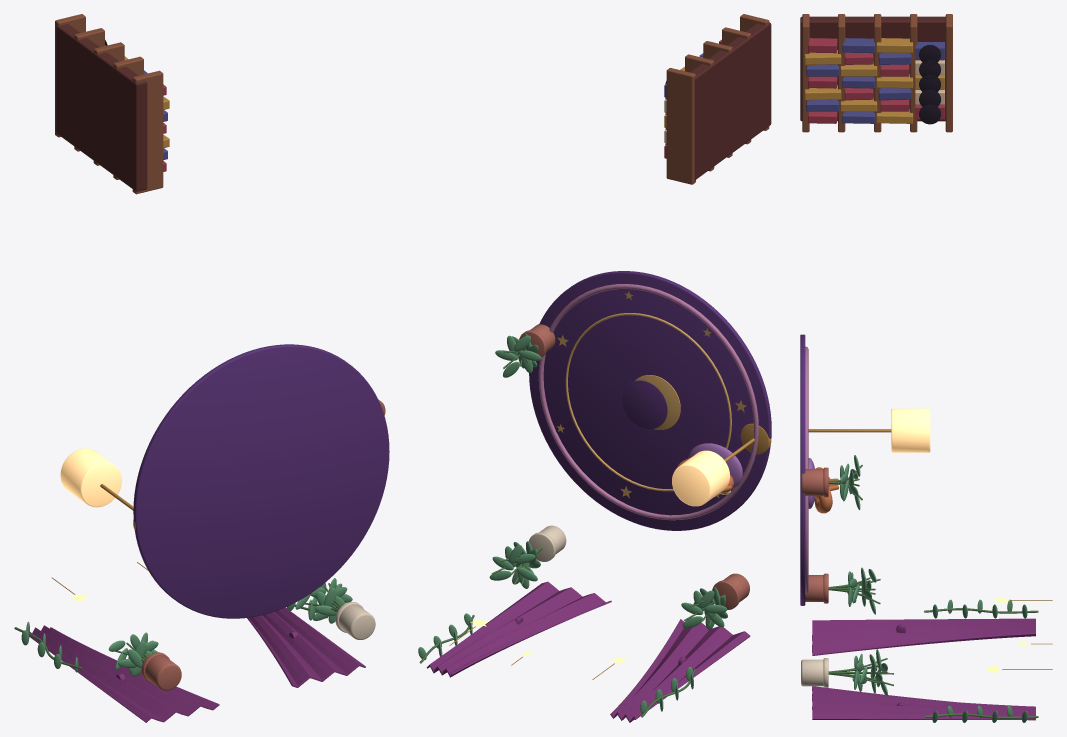
The model's file is drum-corner.glb.
3 renders of one model, left to right at view 1: azimuth 30°, elevation 25°; view 2: azimuth 150°, elevation 25°; view 3: azimuth 270°, elevation 25°, orthographic. The views are drawn at different scales.
Visible parts, largest first — view 1: Batched_Rug_Deep_Purple, Music_Shelf_Back, Batched_Plum_Curtain_Velvet, Batched_Walnut_Wood, Batched_Plant_Leaves, Lamp_Shade, Batched_Warm_Ceramic, Batched_Cream_Ceramic; view 2: Batched_Rug_Deep_Purple, Batched_Plum_Curtain_Velvet, Music_Shelf_Back, Batched_Plant_Leaves, Batched_Walnut_Wood, Rug_Outer_Border, Batched_Rug_Muted_Gold, Lamp_Shade, Batched_Warm_Ceramic, Batched_Cream_Ceramic, Batched_Plant_Stems, Batched_Aged_Brass (+1 smaller); view 3: Batched_Plum_Curtain_Velvet, Batched_Walnut_Wood, Batched_Book_Ochre, Music_Shelf_Back, Batched_Book_Indigo, Batched_Plant_Leaves, Batched_Book_Burgundy, Lamp_Shade, Batched_Vinyl_Black, Batched_Rug_Deep_Purple, Batched_Plant_Stems, Batched_Warm_Ceramic (+4 smaller).
Part boxes in pixels (x1=…): Batched_Rug_Deep_Purple: x1=133, y1=344, x2=389, y2=618; Music_Shelf_Back: x1=56, y1=24, x2=147, y2=191; Batched_Plum_Curtain_Velvet: x1=29, y1=607, x2=365, y2=722; Batched_Walnut_Wood: x1=55, y1=14, x2=163, y2=194; Batched_Plant_Leaves: x1=21, y1=578, x2=352, y2=676; Lamp_Shade: x1=60, y1=448, x2=121, y2=507; Batched_Warm_Ceramic: x1=141, y1=399, x2=385, y2=690; Batched_Cream_Ceramic: x1=335, y1=602, x2=375, y2=639; Batched_Rug_Deep_Purple: x1=529, y1=271, x2=771, y2=530; Batched_Plum_Curtain_Velvet: x1=426, y1=581, x2=750, y2=722; Music_Shelf_Back: x1=690, y1=22, x2=771, y2=179; Batched_Plant_Leaves: x1=418, y1=333, x2=727, y2=713; Batched_Walnut_Wood: x1=666, y1=14, x2=769, y2=184; Rug_Outer_Border: x1=538, y1=284, x2=758, y2=520; Batched_Rug_Muted_Gold: x1=556, y1=291, x2=746, y2=498; Lamp_Shade: x1=672, y1=450, x2=729, y2=506; Batched_Warm_Ceramic: x1=519, y1=324, x2=749, y2=609; Batched_Cream_Ceramic: x1=528, y1=525, x2=566, y2=561; Batched_Plant_Stems: x1=419, y1=344, x2=725, y2=717; Batched_Aged_Brass: x1=449, y1=423, x2=771, y2=679; Batched_Plum_Curtain_Velvet: x1=812, y1=618, x2=1035, y2=720; Batched_Walnut_Wood: x1=802, y1=14, x2=952, y2=132; Batched_Book_Ochre: x1=804, y1=38, x2=944, y2=123; Music_Shelf_Back: x1=800, y1=16, x2=945, y2=121; Batched_Book_Indigo: x1=806, y1=38, x2=944, y2=123; Batched_Plant_Leaves: x1=840, y1=455, x2=1027, y2=722; Batched_Book_Burgundy: x1=808, y1=38, x2=944, y2=123; Lamp_Shade: x1=891, y1=408, x2=930, y2=452; Batched_Vinyl_Black: x1=919, y1=45, x2=940, y2=124; Batched_Rug_Deep_Purple: x1=800, y1=334, x2=805, y2=605; Batched_Plant_Stems: x1=828, y1=465, x2=1038, y2=718; Batched_Warm_Ceramic: x1=801, y1=467, x2=828, y2=603.
Size of the model in its own units: 5.91 by 13.88 by 5.25.
